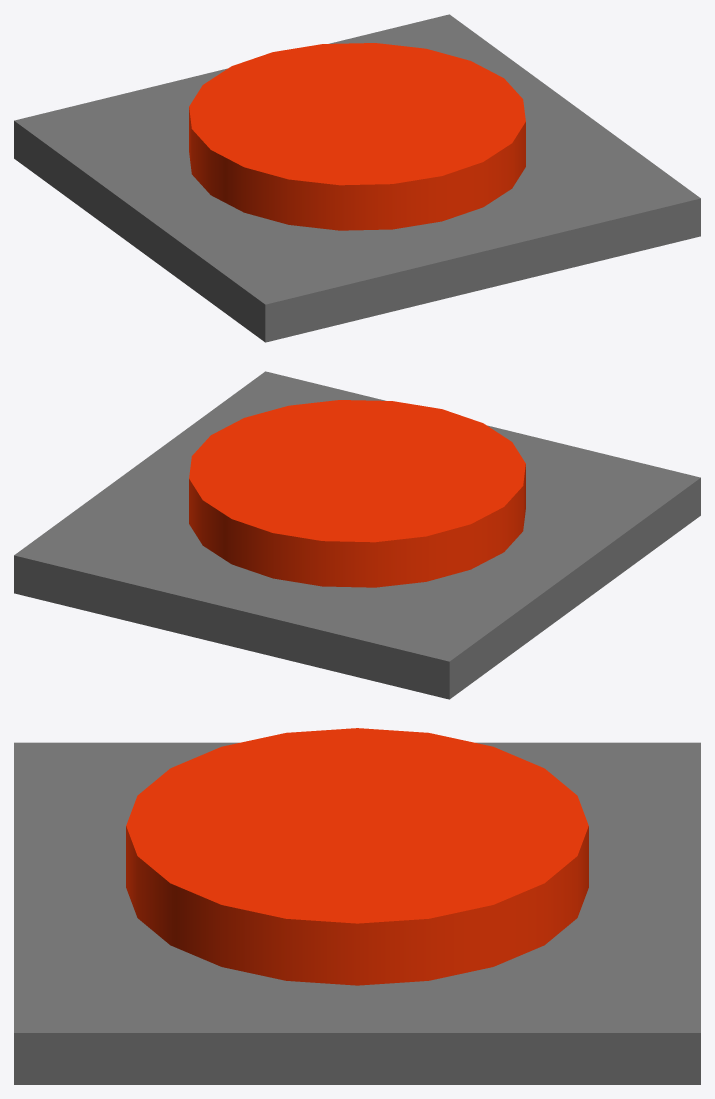
File: button.glb
The picture shows the model from 3 angles, top to bottom: view 1: azimuth 30°, elevation 25°; view 2: azimuth 150°, elevation 25°; view 3: azimuth 270°, elevation 25°; orthographic projection. The views are drawn at different scales.
Parts seen in each view (by area): view 1: pCube1 button, button pCylinder1; view 2: pCube1 button, button pCylinder1; view 3: pCube1 button, button pCylinder1.
Part boxes in pixels (bbox=[...]): pCube1 button: bbox=[14, 14, 700, 342]; button pCylinder1: bbox=[189, 43, 525, 230]; pCube1 button: bbox=[14, 371, 700, 699]; button pCylinder1: bbox=[189, 400, 525, 587]; pCube1 button: bbox=[14, 742, 700, 1084]; button pCylinder1: bbox=[126, 728, 588, 985].
Size of the model in its own units: 2.38 by 0.4349 by 2.38.
